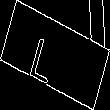L_N: (38, 26, 72, 84)
